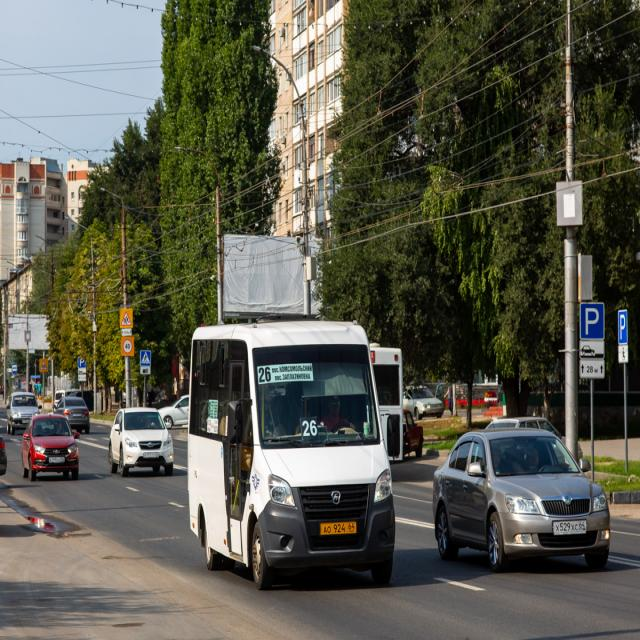number-of-bus: (302, 419, 321, 442), (258, 365, 273, 385)
